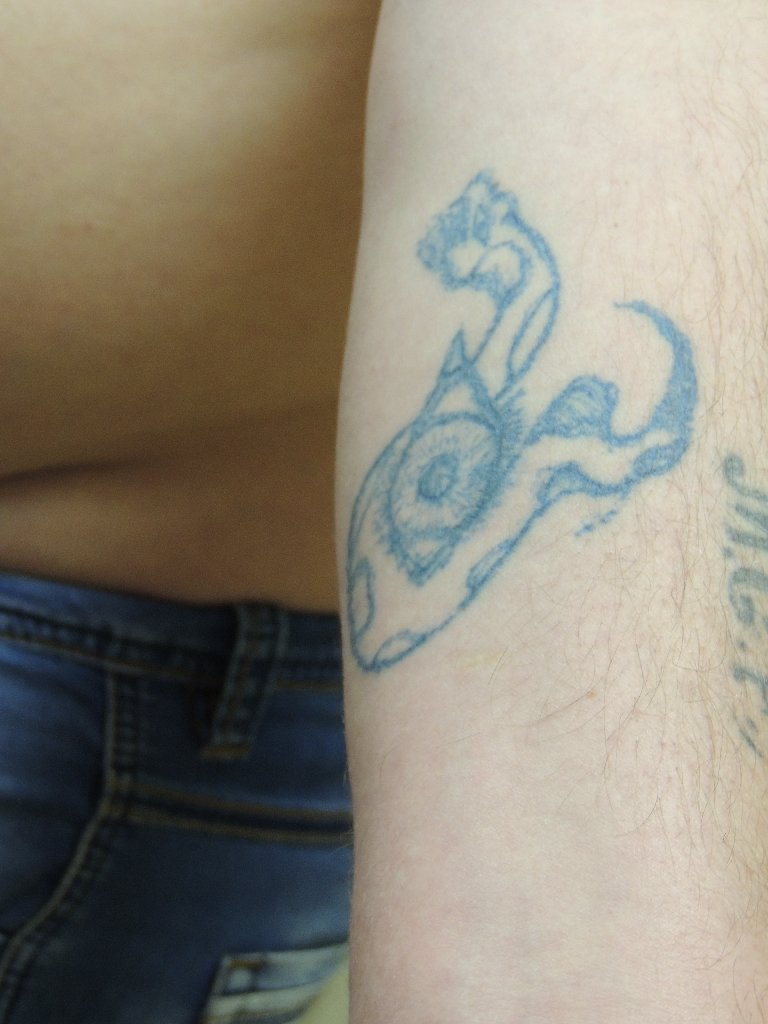tatu7_zmeya: (356, 115, 693, 705)
